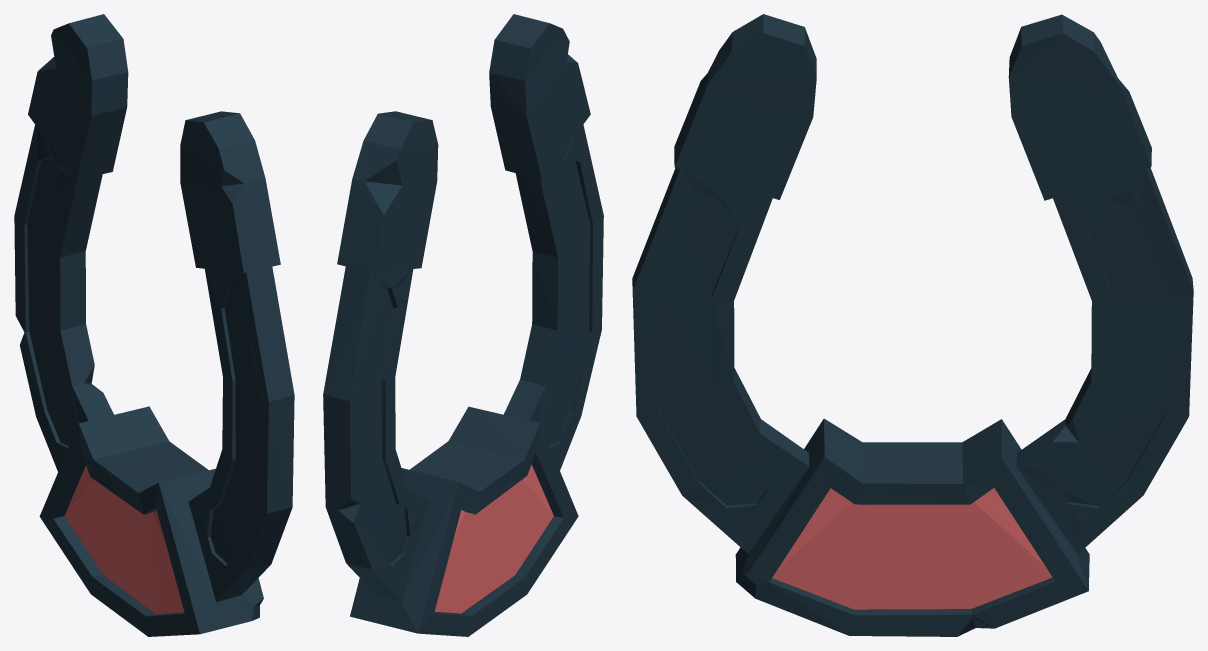
Rendered from SFFA_Horseshoe_003.fbx.
The picture shows the model from 3 angles, left to right: view 1: azimuth 30°, elevation 25°; view 2: azimuth 150°, elevation 25°; view 3: azimuth 270°, elevation 25°; orthographic projection. The views are drawn at different scales.
Visible parts, largest first — view 1: SFFA_Horseshoe_003; view 2: SFFA_Horseshoe_003; view 3: SFFA_Horseshoe_003.
Boxes of the visible parts, x1,y1,x2,y2 form: SFFA_Horseshoe_003: (14,14,294,636); SFFA_Horseshoe_003: (323,14,603,636); SFFA_Horseshoe_003: (632,14,1193,636).
Size of the model in its own units: 2.35 by 15.81 by 13.53.
